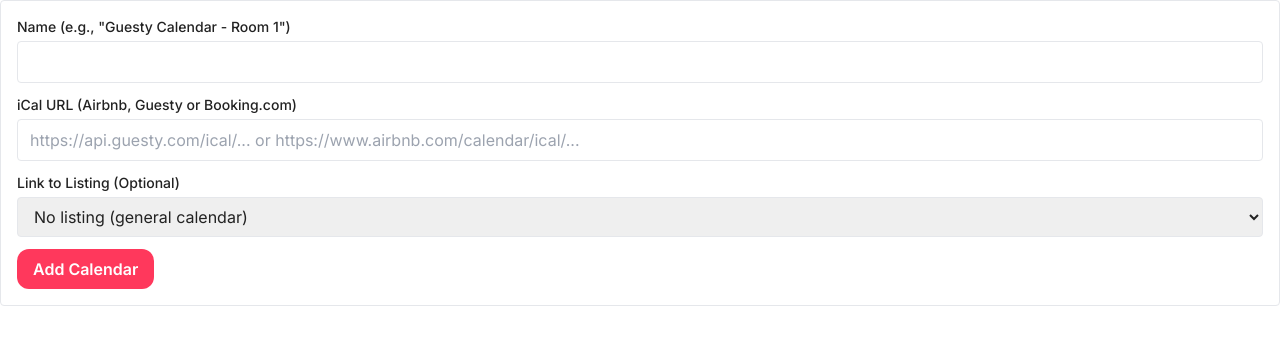
Scenario: CalendarForm › shows the API error when the calendar is rejected
The image size is (1280, 355).
Type "Internal" into the 1st field at x=640, y=62, box x1=17 y1=41 x2=1263 y2=83
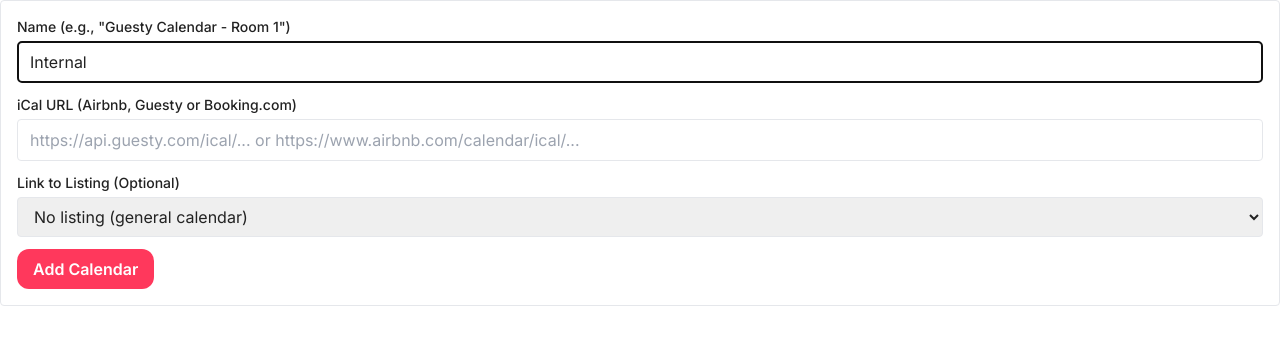
Type "https://169.254.169.254/x.ics" into the 2nd field at x=640, y=140, box x1=17 y1=119 x2=1263 y2=161
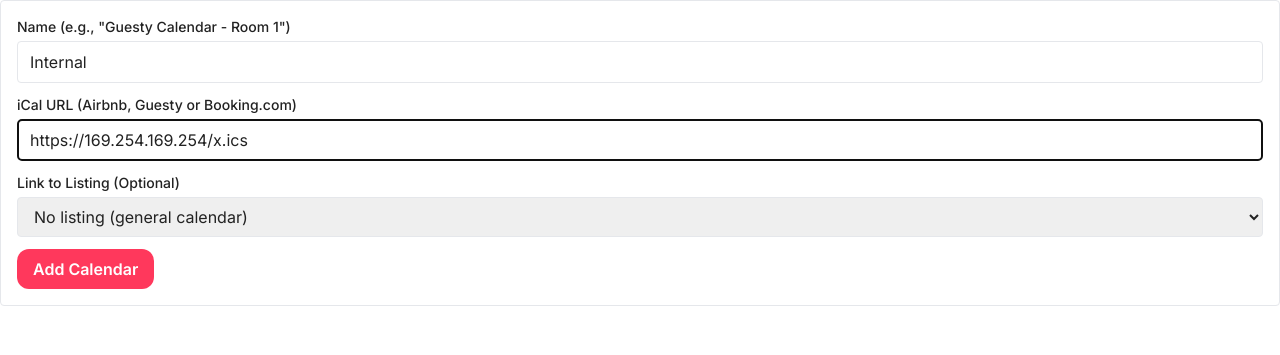
Click the button "Add Calendar" at x=86, y=269, box x1=17 y1=249 x2=154 y2=289
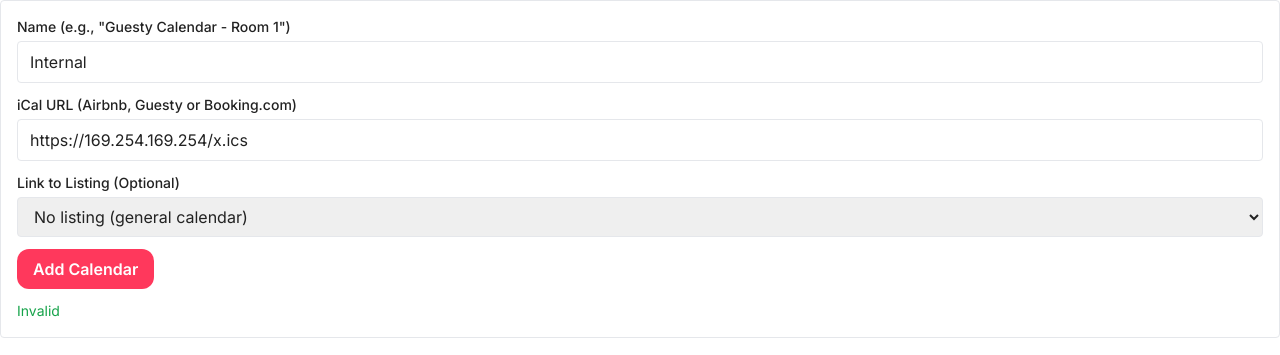
Expected: the text "Invalid" is shown, x1=17 y1=302 x2=60 y2=319
